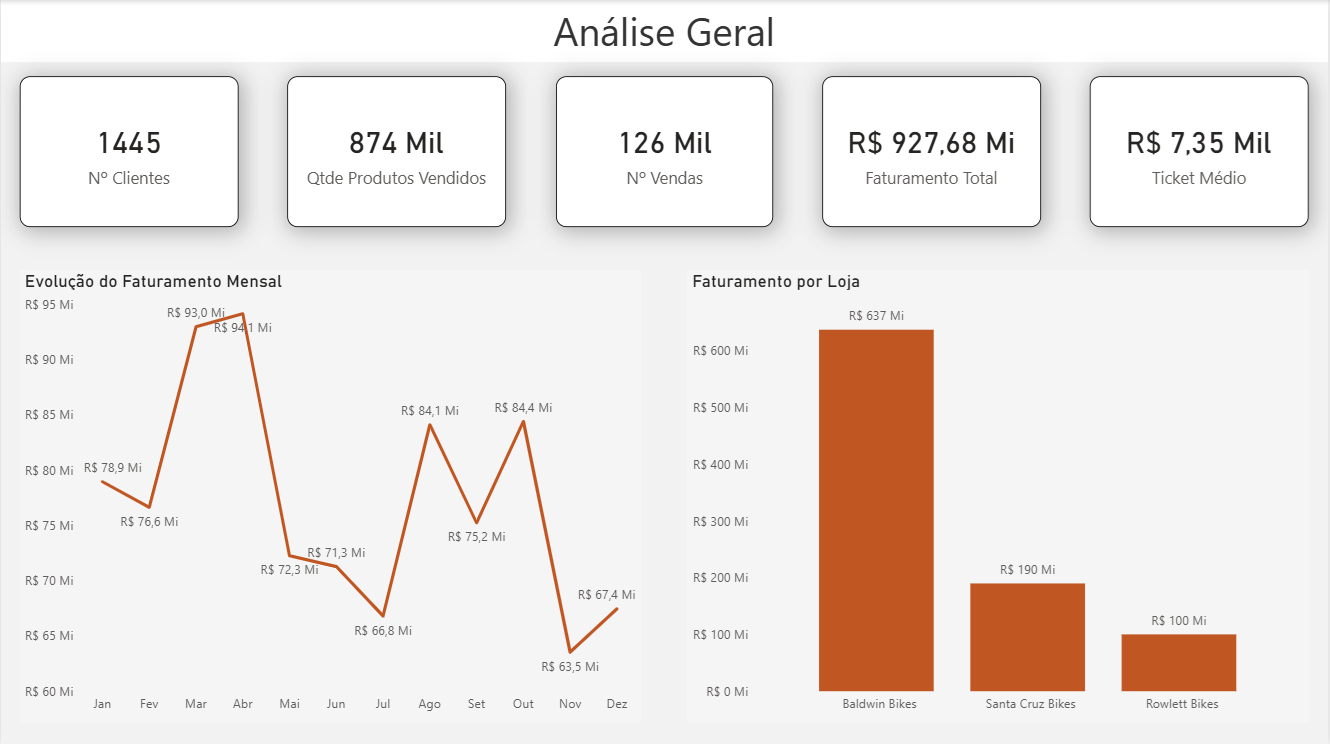

This screenshot's page, from the dashboard's own definition file:
{"tool":"powerbi","page":{"name":"Análise Geral","canvas":[1280,720],"ordinal":0},"visuals":[{"type":"lineChart","title":"Evolução do Faturamento Mensal","fields":{"Y":["#Medidas.Faturamento Total"],"Category":["Dim_calendario.Mes Abv"]},"box":[18.1,260.6,599.6,436.7],"z":0},{"type":"card","fields":{"Values":["#Medidas.Faturamento Total"]},"box":[792.3,73.6,211.1,146],"z":1000},{"type":"card","fields":{"Values":["#Medidas.Nº Clientes"]},"box":[18.1,73.6,211.1,146],"z":2000},{"type":"card","fields":{"Values":["#Medidas.Ticket Médio"]},"box":[1050.8,73.6,211.1,146],"z":3000},{"type":"card","fields":{"Values":["#Medidas.Nº Vendas"]},"box":[535.1,73.6,209.9,146],"z":4000},{"type":"card","fields":{"Values":["#Medidas.Qtde Produtos Vendidos"]},"box":[276.6,73.6,211.1,146],"z":5000},{"type":"columnChart","title":"Faturamento por Loja","fields":{"Y":["#Medidas.Faturamento Total"],"Category":["Sales Store.Name"]},"box":[662.3,260.6,599.6,436.7],"z":6000},{"type":"textbox","box":[486.2,0,307.6,62.7],"z":7000}]}

Visuals, with their boxes in screenshot pixels (x1, y1, x2, y2), scaled from the page's 1280x720 canvas onto the 1330x744 screenshot:
"Evolução do Faturamento Mensal" lineChart: crop(19, 269, 642, 721)
card - #Medidas.Faturamento Total: crop(823, 76, 1043, 227)
card - #Medidas.Nº Clientes: crop(19, 76, 238, 227)
card - #Medidas.Ticket Médio: crop(1092, 76, 1311, 227)
card - #Medidas.Nº Vendas: crop(556, 76, 774, 227)
card - #Medidas.Qtde Produtos Vendidos: crop(287, 76, 507, 227)
"Faturamento por Loja" columnChart: crop(688, 269, 1311, 721)
textbox: crop(505, 0, 825, 65)
